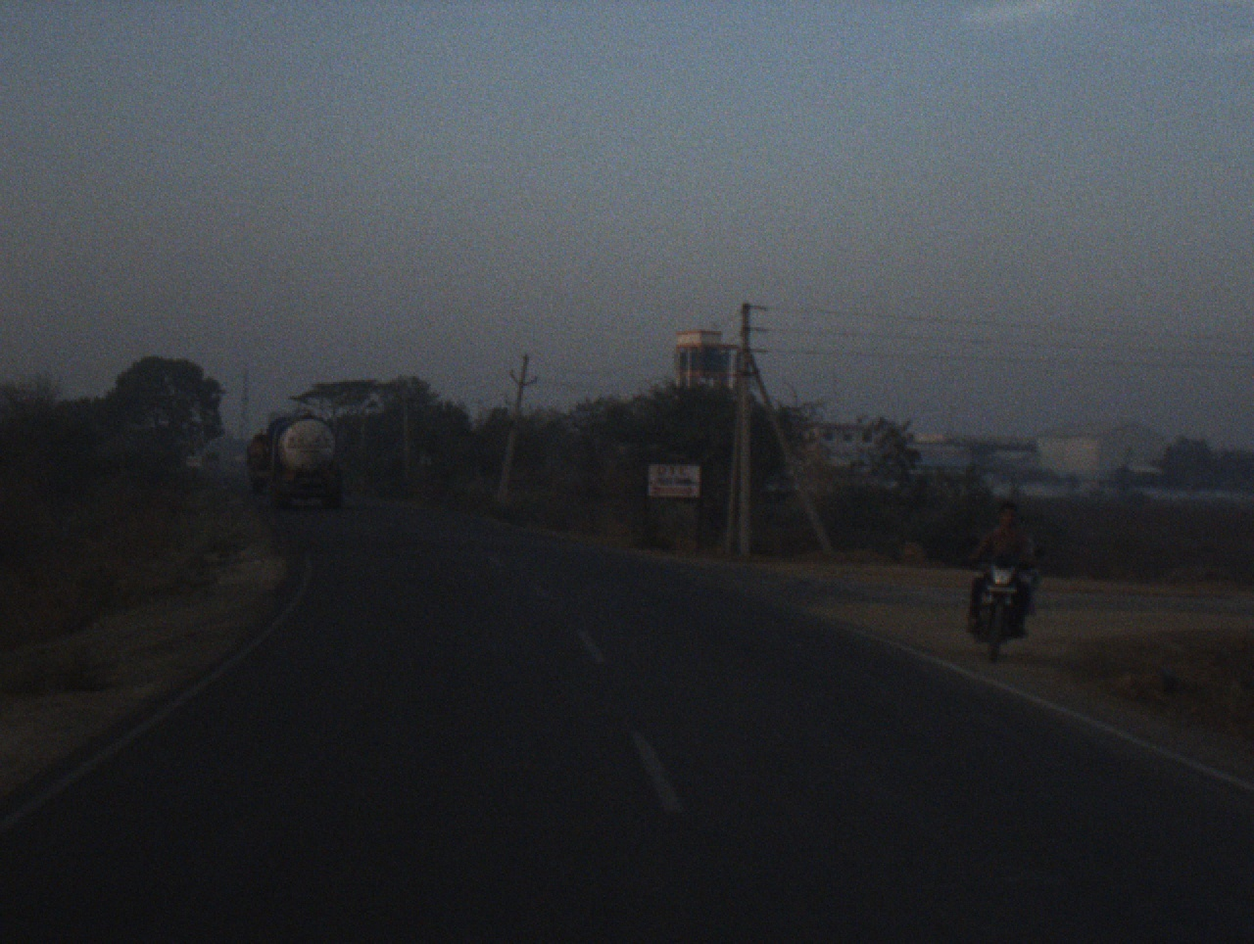motorcycle: (959, 550, 1042, 669)
rider: (962, 490, 1041, 652)
truck: (279, 413, 344, 511)
vehicle fallback: (249, 427, 273, 494)
